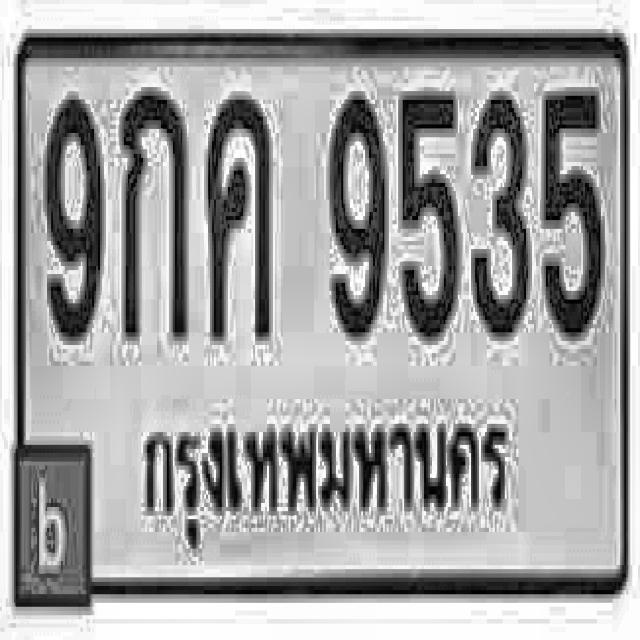license-plate: (11, 17, 634, 617)
